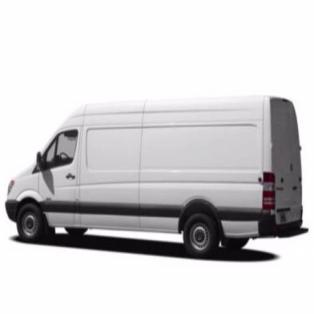Auto: (6, 95, 308, 256)
